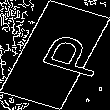P_W: (14, 28, 96, 82)
